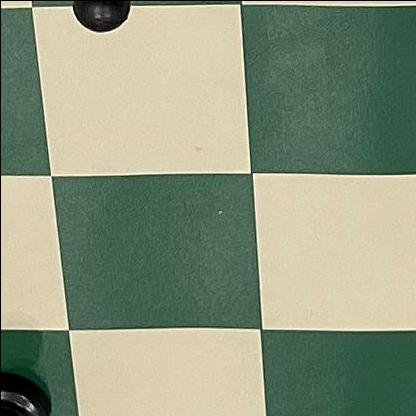black-pawn: (34, 0, 200, 51)
